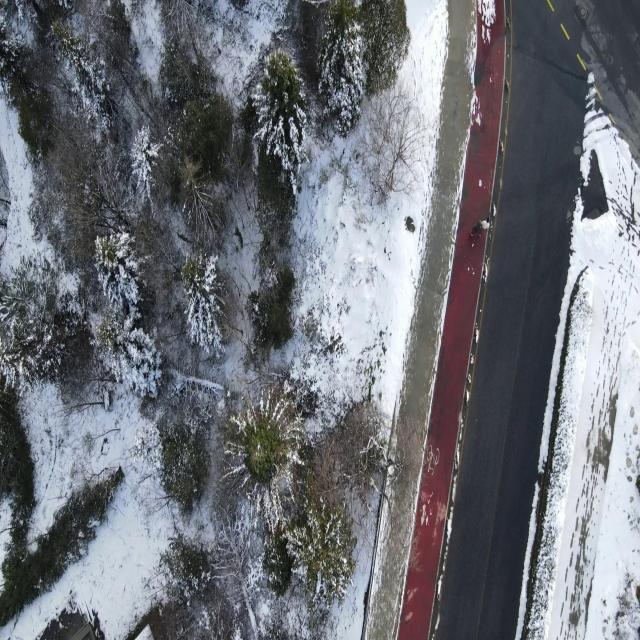p3rson: (469, 219, 482, 236), (479, 217, 490, 235)
